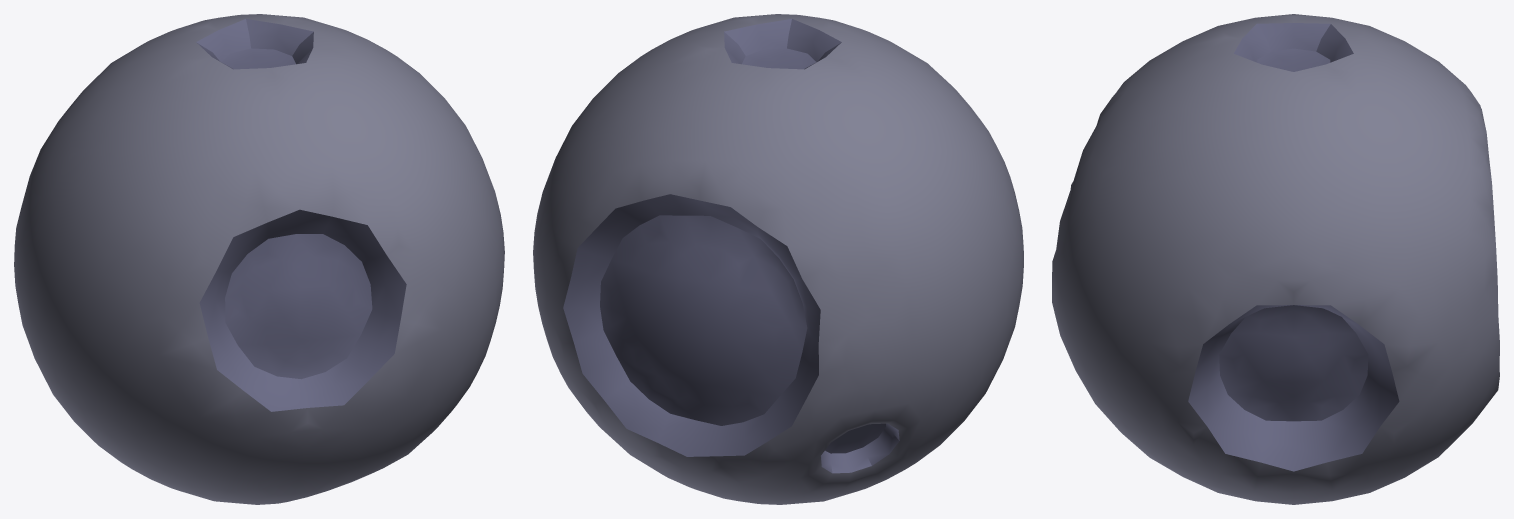
File: Planet_3_Icosphere.obj
The picture shows the model from 3 angles, left to right: view 1: azimuth 30°, elevation 25°; view 2: azimuth 150°, elevation 25°; view 3: azimuth 270°, elevation 25°; orthographic projection.
Visible parts, largest first — view 1: Planet_3_Icosphere.004; view 2: Planet_3_Icosphere.004; view 3: Planet_3_Icosphere.004.
Boxes of the visible parts, x1=… form: Planet_3_Icosphere.004: x1=14, y1=14, x2=504, y2=504; Planet_3_Icosphere.004: x1=533, y1=14, x2=1023, y2=504; Planet_3_Icosphere.004: x1=1052, y1=14, x2=1499, y2=504.
Bounding box in the file's own units: 3.66 × 3.68 × 3.41.
